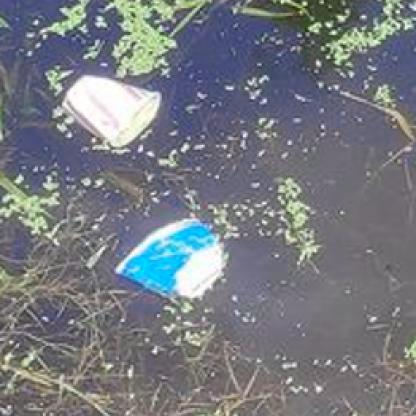Plastic: (62, 72, 164, 149)
Trash: (111, 210, 230, 306)
